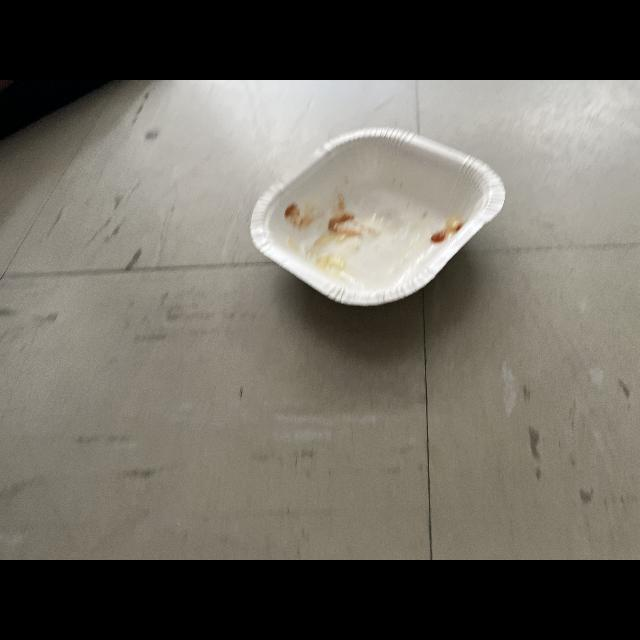cardboard_bowl: (243, 118, 503, 310)
